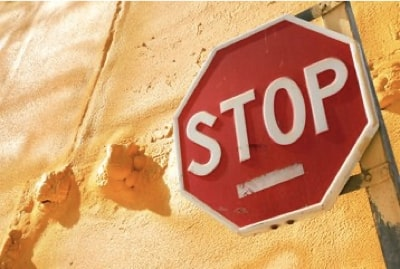StopSign: (170, 12, 382, 235)
